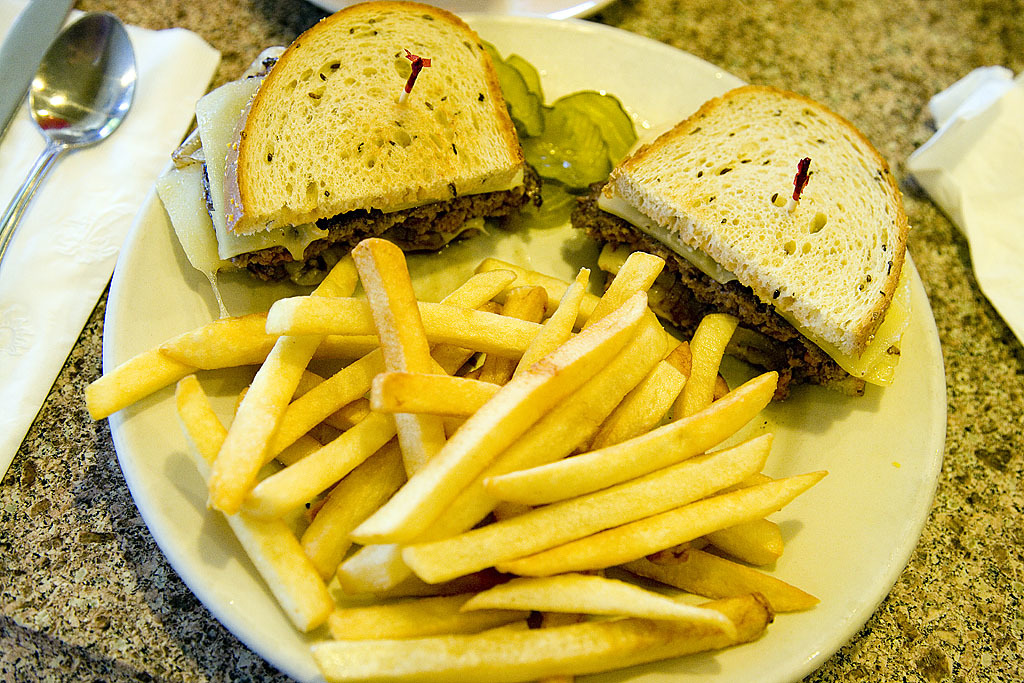French fries: (40, 233, 810, 678)
